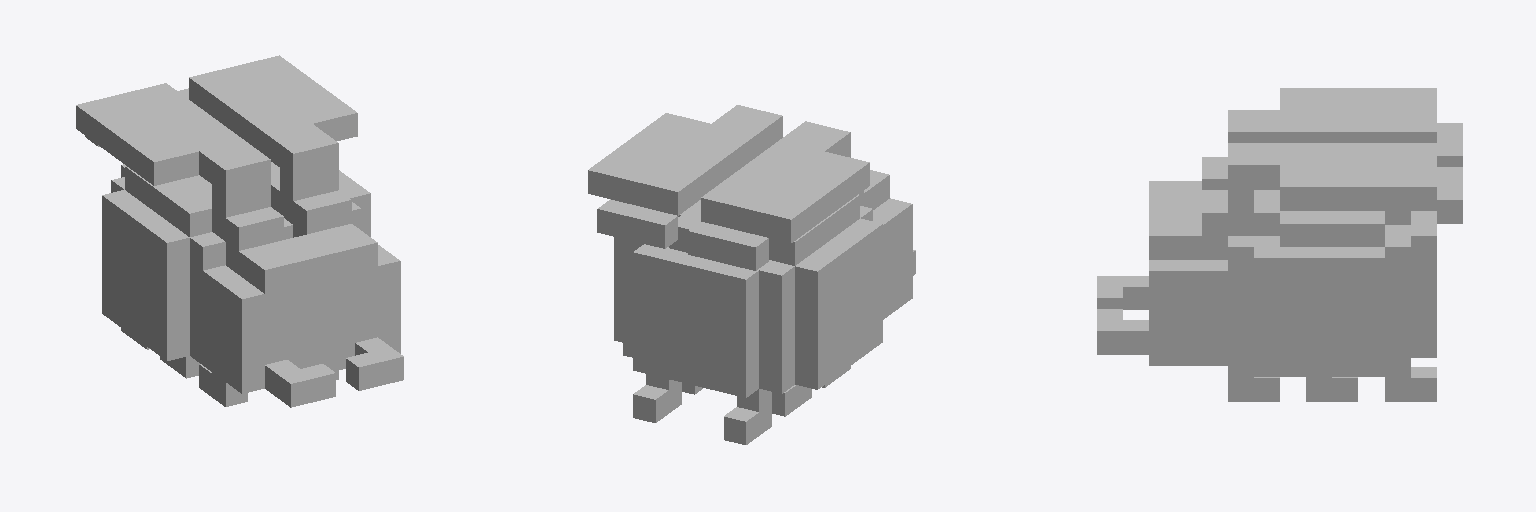
Rendered from Polinizador - Besouro.obj.
3 renders of one model, left to right at view 1: azimuth 30°, elevation 25°; view 2: azimuth 150°, elevation 25°; view 3: azimuth 270°, elevation 25°, orthographic.
Parts seen in each view (by area): view 1: object 1; view 2: object 1; view 3: object 1.
Boxes of the visible parts, box(x1,y1,x2,y2) form: object 1: box(76, 55, 403, 407); object 1: box(588, 105, 915, 444); object 1: box(1097, 88, 1462, 401).
Size of the model in its own units: 0.9 by 1 by 1.4.